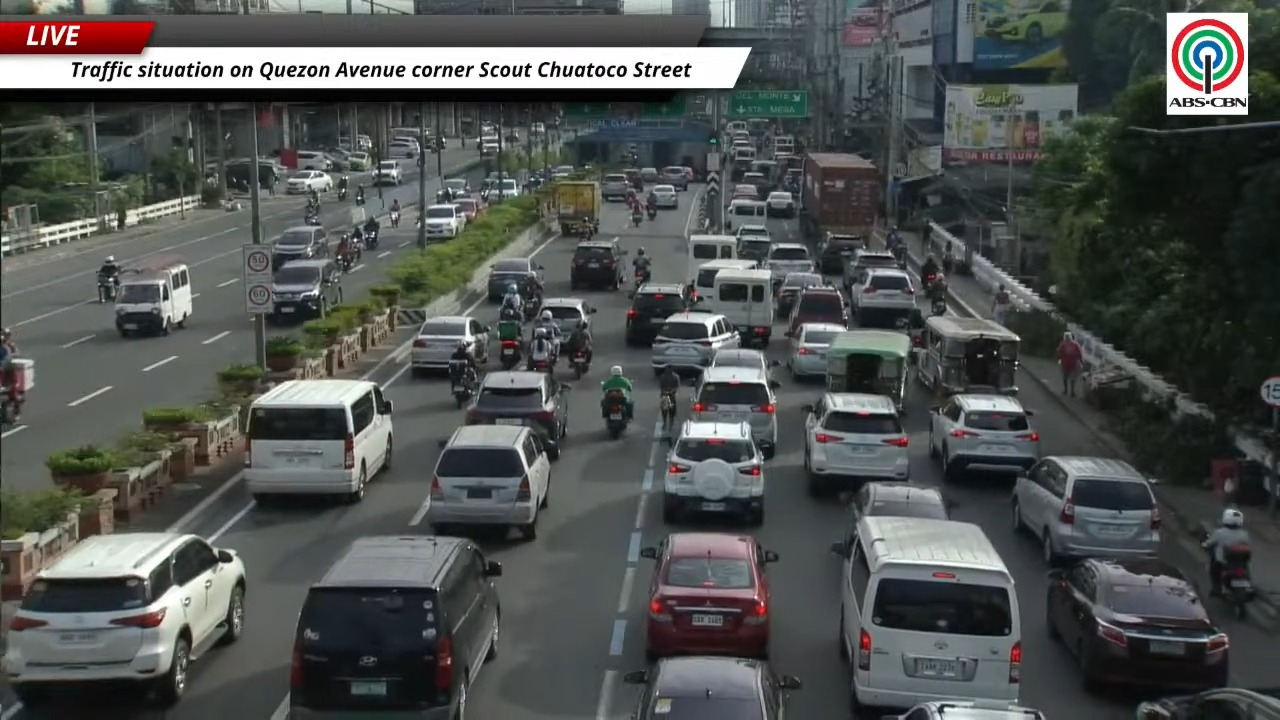car: (4, 532, 246, 707), (287, 534, 501, 719), (831, 516, 1023, 717), (1046, 558, 1227, 689), (244, 379, 393, 504), (641, 533, 777, 661), (1011, 456, 1160, 564), (426, 425, 550, 540), (623, 656, 800, 719), (802, 392, 909, 495), (663, 420, 763, 525), (928, 393, 1040, 479), (465, 370, 571, 459), (689, 366, 779, 458), (843, 481, 950, 550), (651, 309, 740, 375), (409, 315, 489, 375), (268, 258, 342, 322), (1136, 688, 1279, 719), (625, 283, 691, 345), (850, 267, 916, 325), (983, 0, 1066, 46), (880, 699, 1045, 719), (788, 322, 845, 378), (569, 239, 626, 290), (787, 286, 848, 332), (272, 225, 329, 269), (487, 258, 543, 301), (842, 248, 898, 290), (774, 272, 826, 316), (540, 297, 596, 337), (766, 243, 814, 285), (709, 348, 779, 376), (818, 233, 864, 274), (735, 223, 772, 265), (424, 203, 465, 240), (285, 170, 333, 193), (737, 234, 771, 265), (727, 198, 764, 225), (601, 173, 632, 201), (296, 151, 334, 172), (741, 171, 771, 197), (371, 160, 402, 185), (488, 178, 521, 201), (765, 191, 795, 216), (454, 197, 483, 221), (661, 166, 689, 190), (387, 138, 420, 158), (651, 184, 678, 208), (735, 223, 770, 241), (441, 178, 472, 197), (326, 148, 349, 171), (346, 151, 371, 171), (623, 168, 643, 192), (730, 184, 758, 199), (477, 138, 500, 156), (639, 167, 660, 184), (551, 166, 574, 179), (682, 166, 699, 181)
motorcycle: (1218, 545, 1255, 619), (603, 389, 627, 439), (451, 361, 476, 408), (0, 388, 22, 427), (336, 241, 361, 273), (499, 340, 521, 370), (660, 391, 676, 430), (97, 274, 118, 302), (570, 349, 589, 378), (523, 294, 541, 321), (890, 243, 906, 268), (527, 358, 551, 374), (499, 305, 521, 321), (363, 230, 379, 251), (634, 267, 650, 287), (930, 296, 946, 315), (304, 210, 320, 225), (631, 211, 642, 227), (389, 210, 399, 227), (354, 192, 365, 205), (337, 187, 347, 200), (647, 206, 656, 220)
truck: (800, 152, 883, 240), (552, 180, 602, 236)
